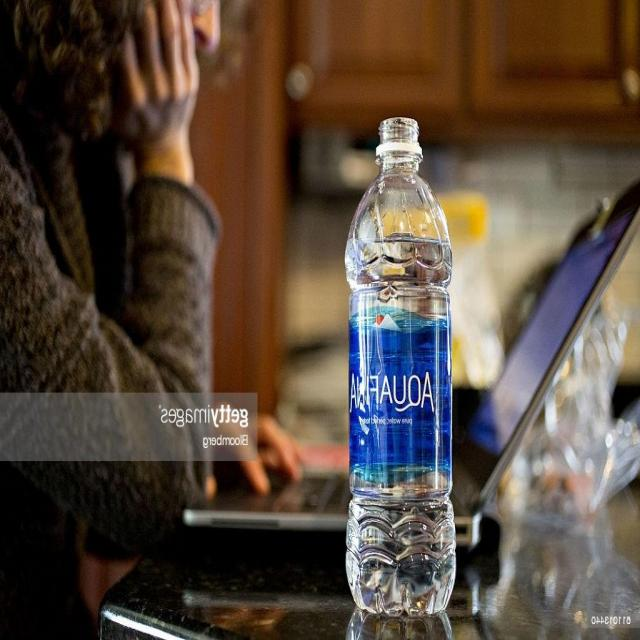bottle: (334, 110, 464, 614)
